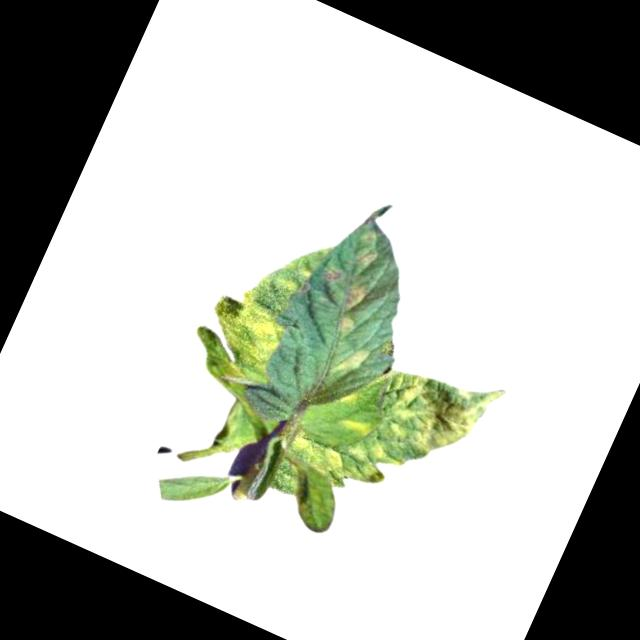Leaf_Mold: (355, 343, 511, 502), (182, 274, 293, 396), (283, 428, 383, 497), (333, 338, 376, 386), (339, 277, 375, 318), (348, 239, 383, 276), (338, 408, 374, 441), (335, 311, 361, 335)
